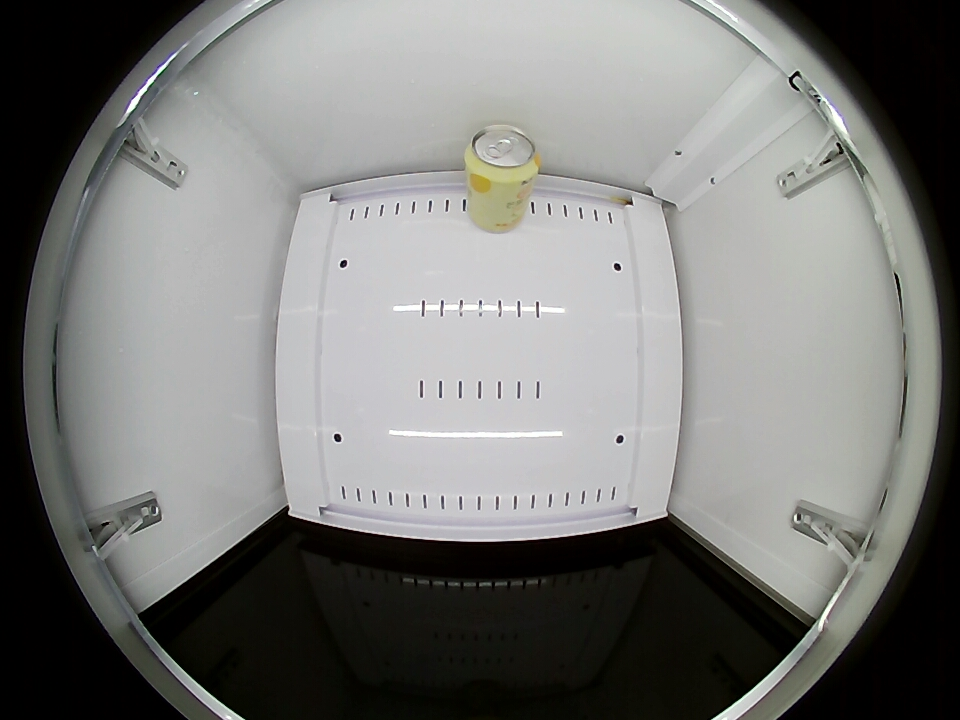mangguoxiaolao: (464, 124, 540, 187)
